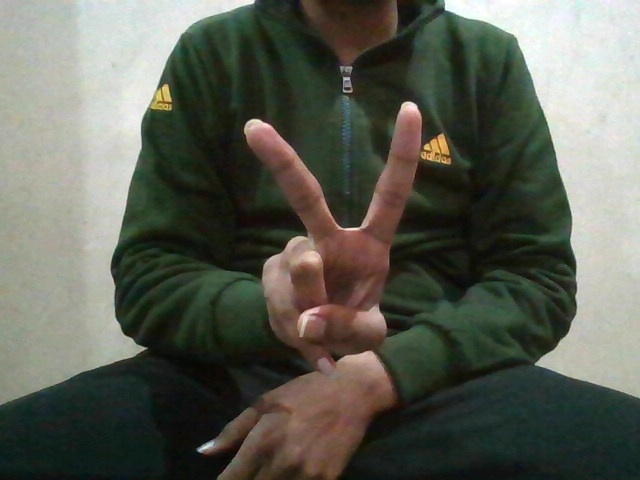V: (235, 97, 429, 361)
